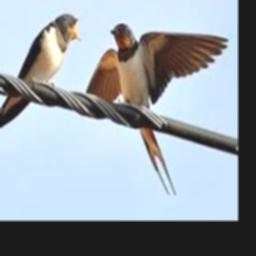Swallow: (84, 23, 228, 195), (0, 15, 80, 130)
